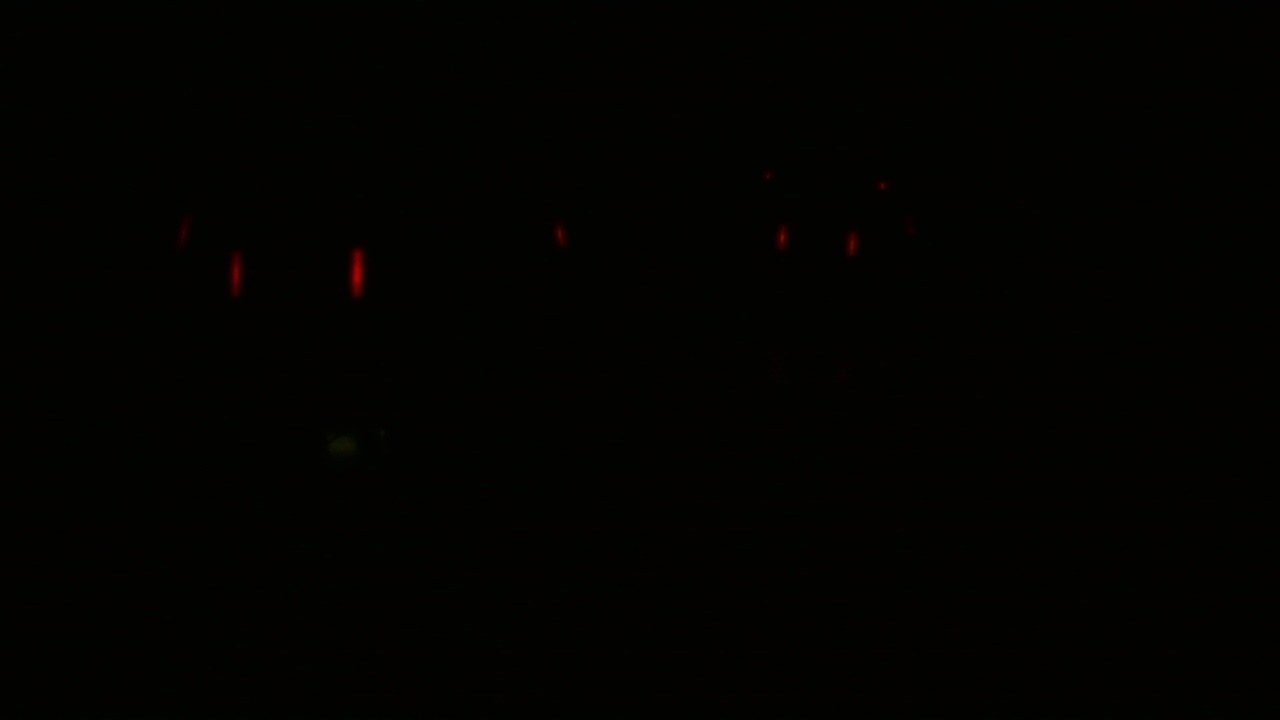pair1: (228, 247, 362, 298), (772, 217, 862, 264)
